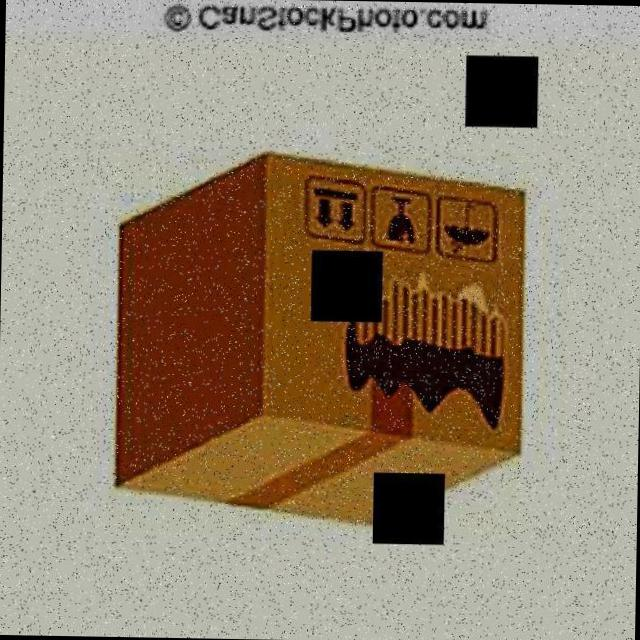box: (108, 148, 529, 538)
